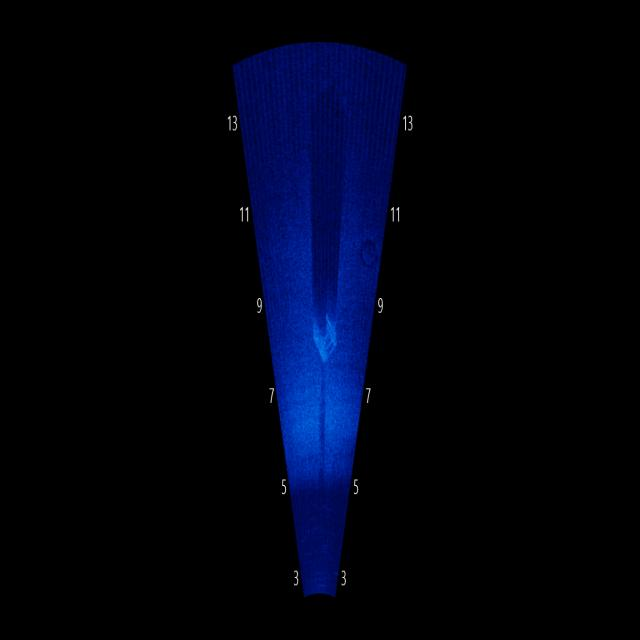square: (299, 296, 343, 376)
